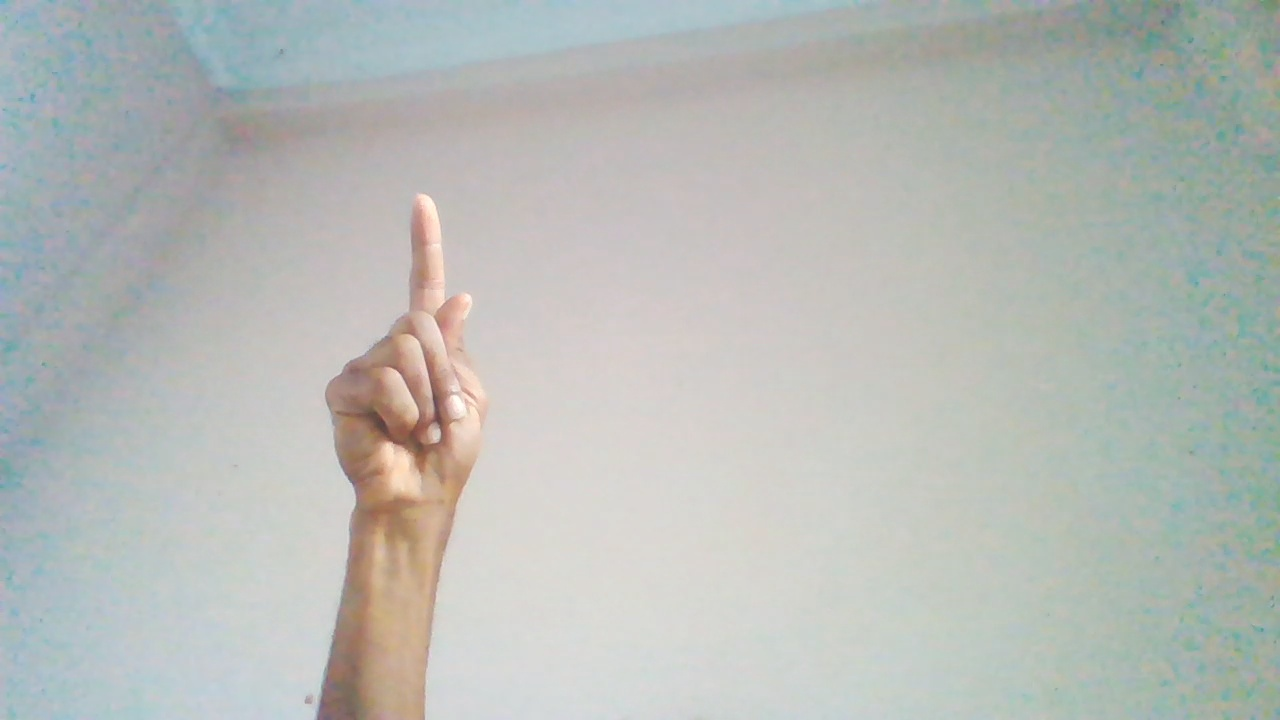ne: (325, 197, 487, 603)
